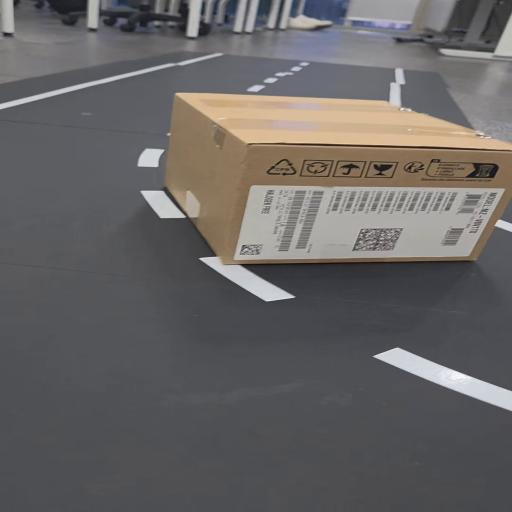Box: (164, 88, 512, 270)
